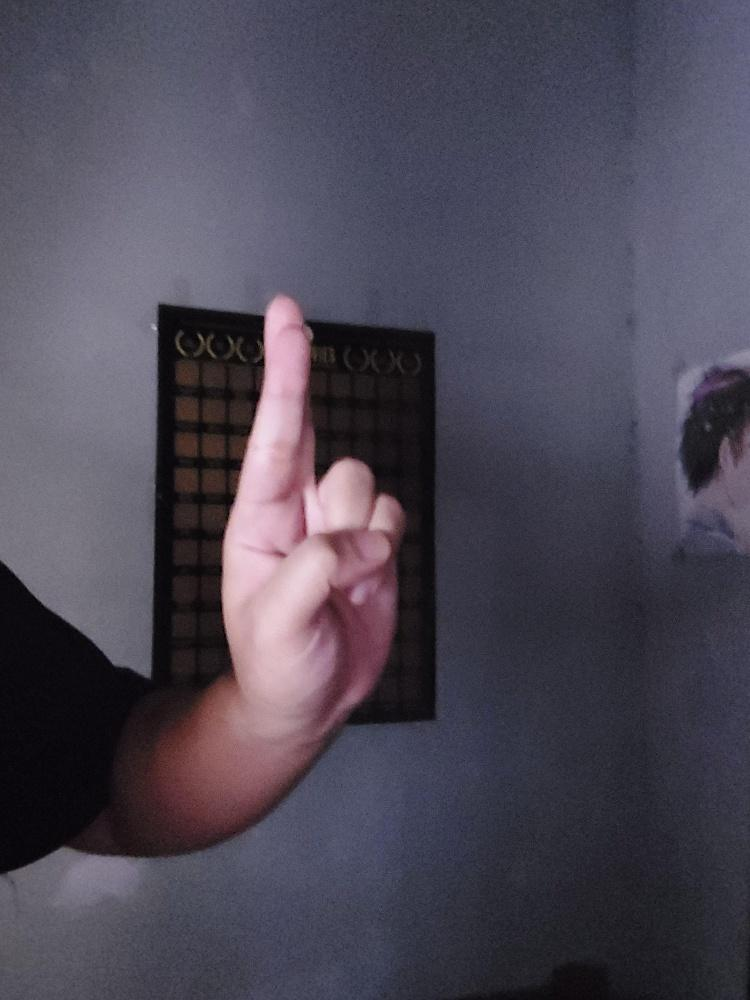r: (220, 293, 405, 739)
